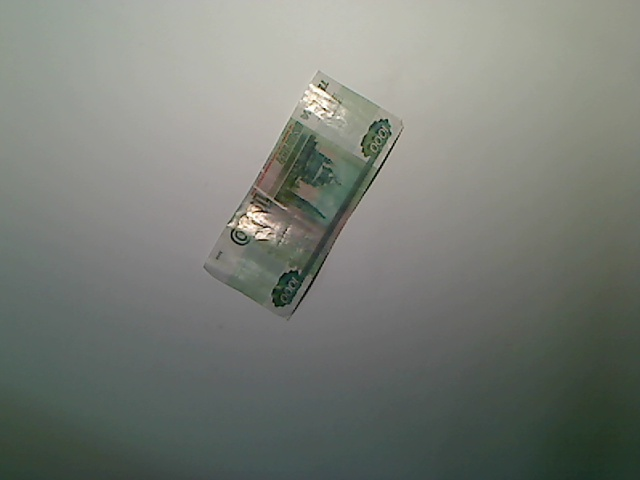banknotes: (200, 64, 411, 324)
